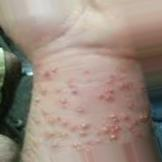Ants: (69, 140, 93, 154), (57, 116, 78, 130), (106, 120, 123, 137), (65, 77, 79, 95), (47, 130, 68, 139), (128, 124, 141, 136), (108, 111, 120, 124), (117, 111, 130, 123), (99, 91, 113, 101), (58, 95, 69, 107), (118, 80, 131, 90), (39, 107, 50, 117), (32, 114, 42, 124), (51, 141, 63, 149), (139, 113, 149, 122), (40, 70, 50, 79), (105, 75, 114, 85), (127, 101, 136, 111), (93, 136, 104, 144), (99, 125, 108, 134), (79, 121, 89, 129), (32, 96, 40, 105), (38, 86, 46, 95), (48, 66, 58, 73), (75, 107, 85, 113), (78, 132, 87, 138), (110, 134, 117, 141), (133, 119, 139, 126)
